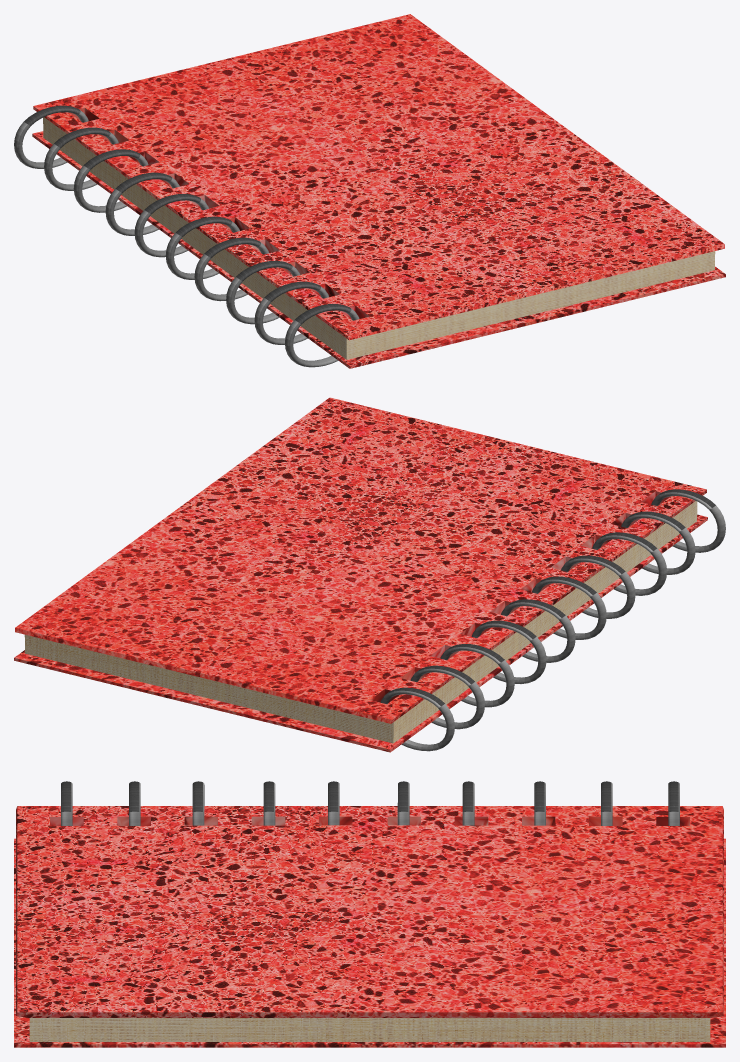
File: modefloFinal.fbx
3 views of the same model, one above another, from view 1: azimuth 30°, elevation 25°; view 2: azimuth 150°, elevation 25°; view 3: azimuth 270°, elevation 25° (orthographic). The views are drawn at different scales.
Parts seen in each view (by area): view 1: Plano, Plano.001, Plano.002, Plano.010, Plano.009, Plano.004, Plano.008, Plano.003, Plano.006, Plano.007, Plano.005; view 2: Plano, Plano.010, Plano.007, Plano.003, Plano.002, Plano.005, Plano.001, Plano.004, Plano.006, Plano.008, Plano.009; view 3: Plano, Plano.004, Plano.003, Plano.007, Plano.006, Plano.001, Plano.002, Plano.005, Plano.008, Plano.009, Plano.010.
Part boxes in pixels (x1,y1,x2,y2): Plano: (32,14,725,368); Plano.001: (285,304,359,367); Plano.002: (254,281,328,344); Plano.010: (14,105,88,168); Plano.009: (44,127,118,190); Plano.004: (194,237,268,301); Plano.008: (73,149,148,212); Plano.003: (226,261,300,324); Plano.006: (134,194,208,257); Plano.007: (105,172,179,235); Plano.005: (165,216,239,279); Plano: (14,397,707,752); Plano.010: (380,687,454,751); Plano.007: (471,620,546,683); Plano.003: (592,532,667,595); Plano.002: (621,511,695,574); Plano.005: (532,576,606,639); Plano.001: (651,489,725,552); Plano.004: (561,555,635,618); Plano.006: (501,599,575,662); Plano.008: (440,644,514,707); Plano.009: (410,665,484,729); Plano: (14,806,725,1047); Plano.004: (263,781,275,825); Plano.003: (192,781,204,825); Plano.007: (462,781,474,825); Plano.006: (397,781,409,825); Plano.001: (61,781,72,825); Plano.002: (129,781,140,825); Plano.005: (328,781,339,825); Plano.008: (534,781,545,825); Plano.009: (601,781,612,825); Plano.010: (668,781,679,825).
Bounding box in the file's own units: 222 × 29.86 × 292.
1 material, 1 textured.
